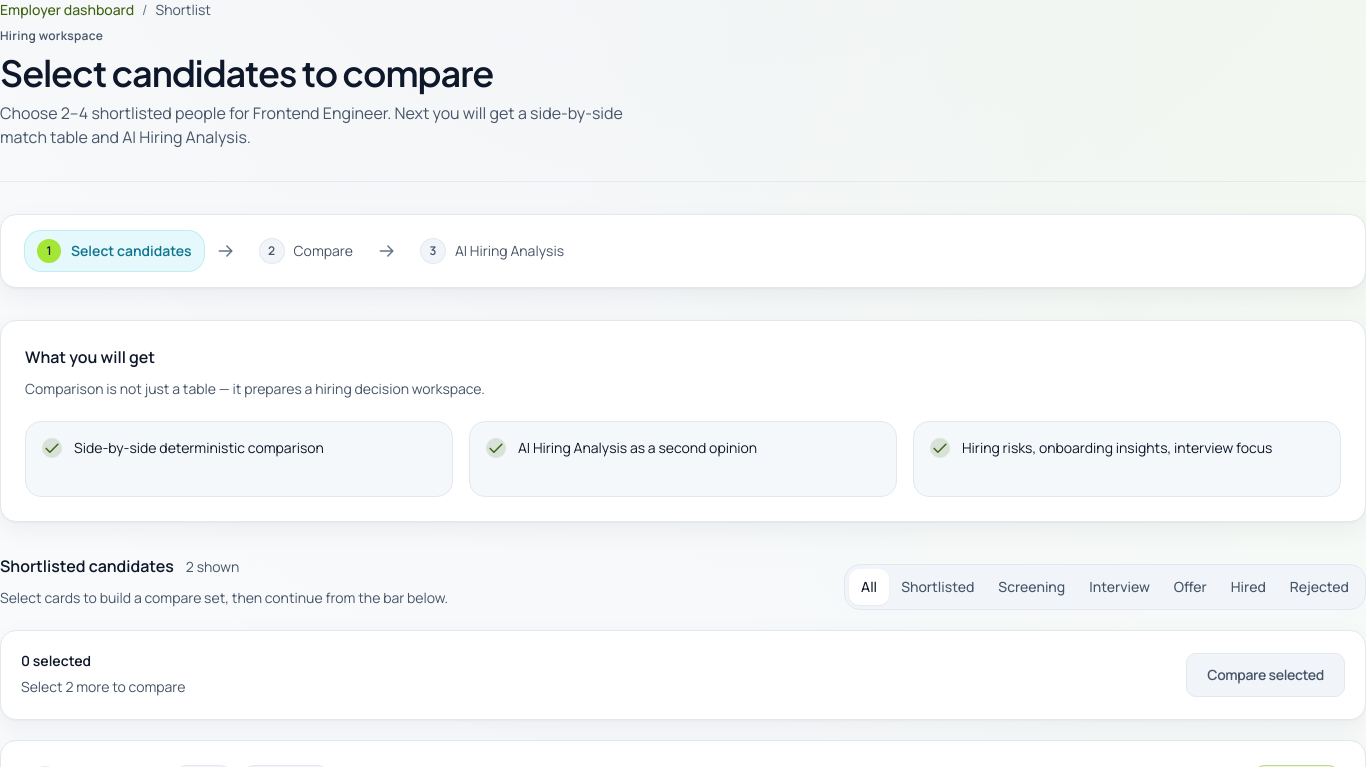
Test: Shortlist note editor UI › keeps the stage filter working with note editors present
The image size is (1366, 767).
Click the button "Interview" at (1120, 587), box [1077, 569, 1162, 605]
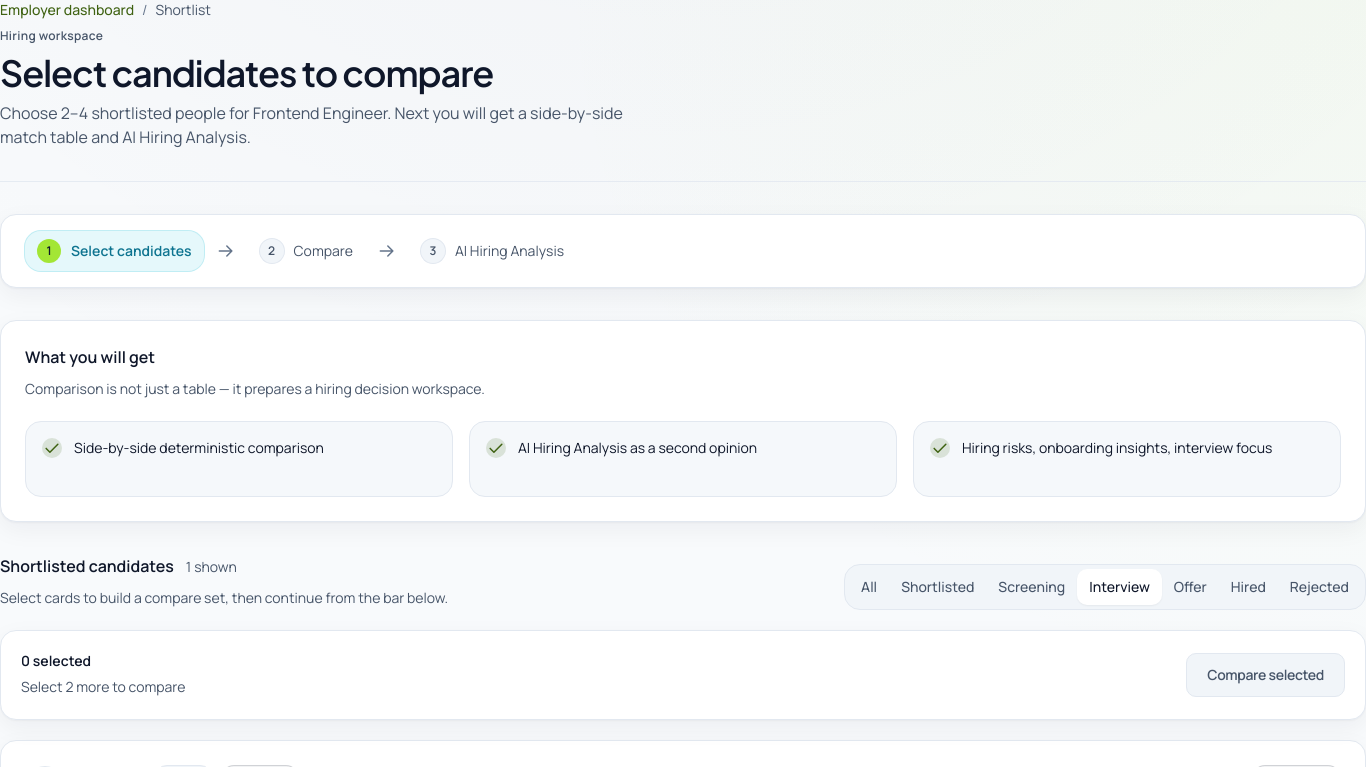
Click the button "All" at (869, 587), box [849, 569, 889, 605]
(page scrolled)
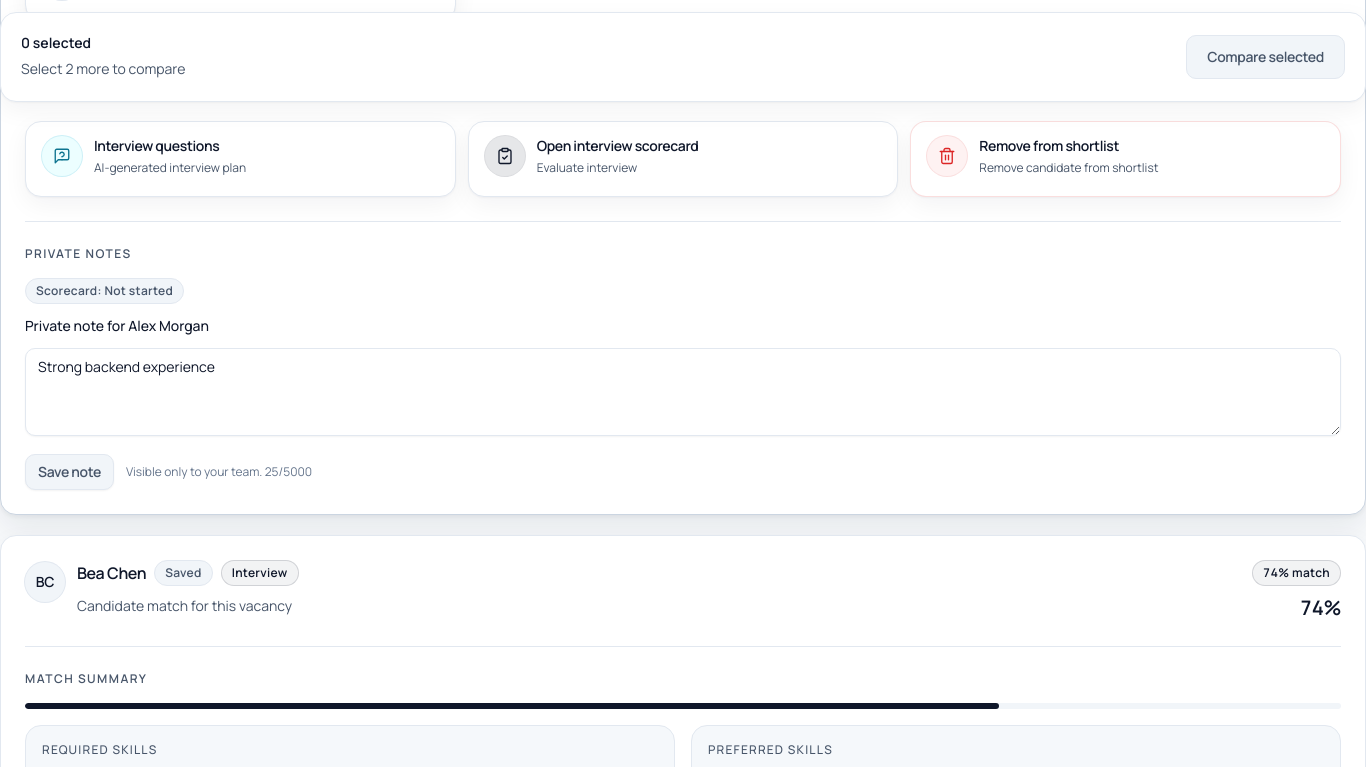
Now the text box labelled "Private note for Alex Morgan" holds "Strong backend experience", box [25, 348, 1341, 436]
